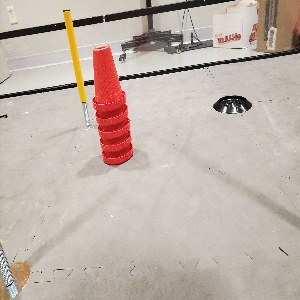Red_5: (95, 45, 126, 166)
